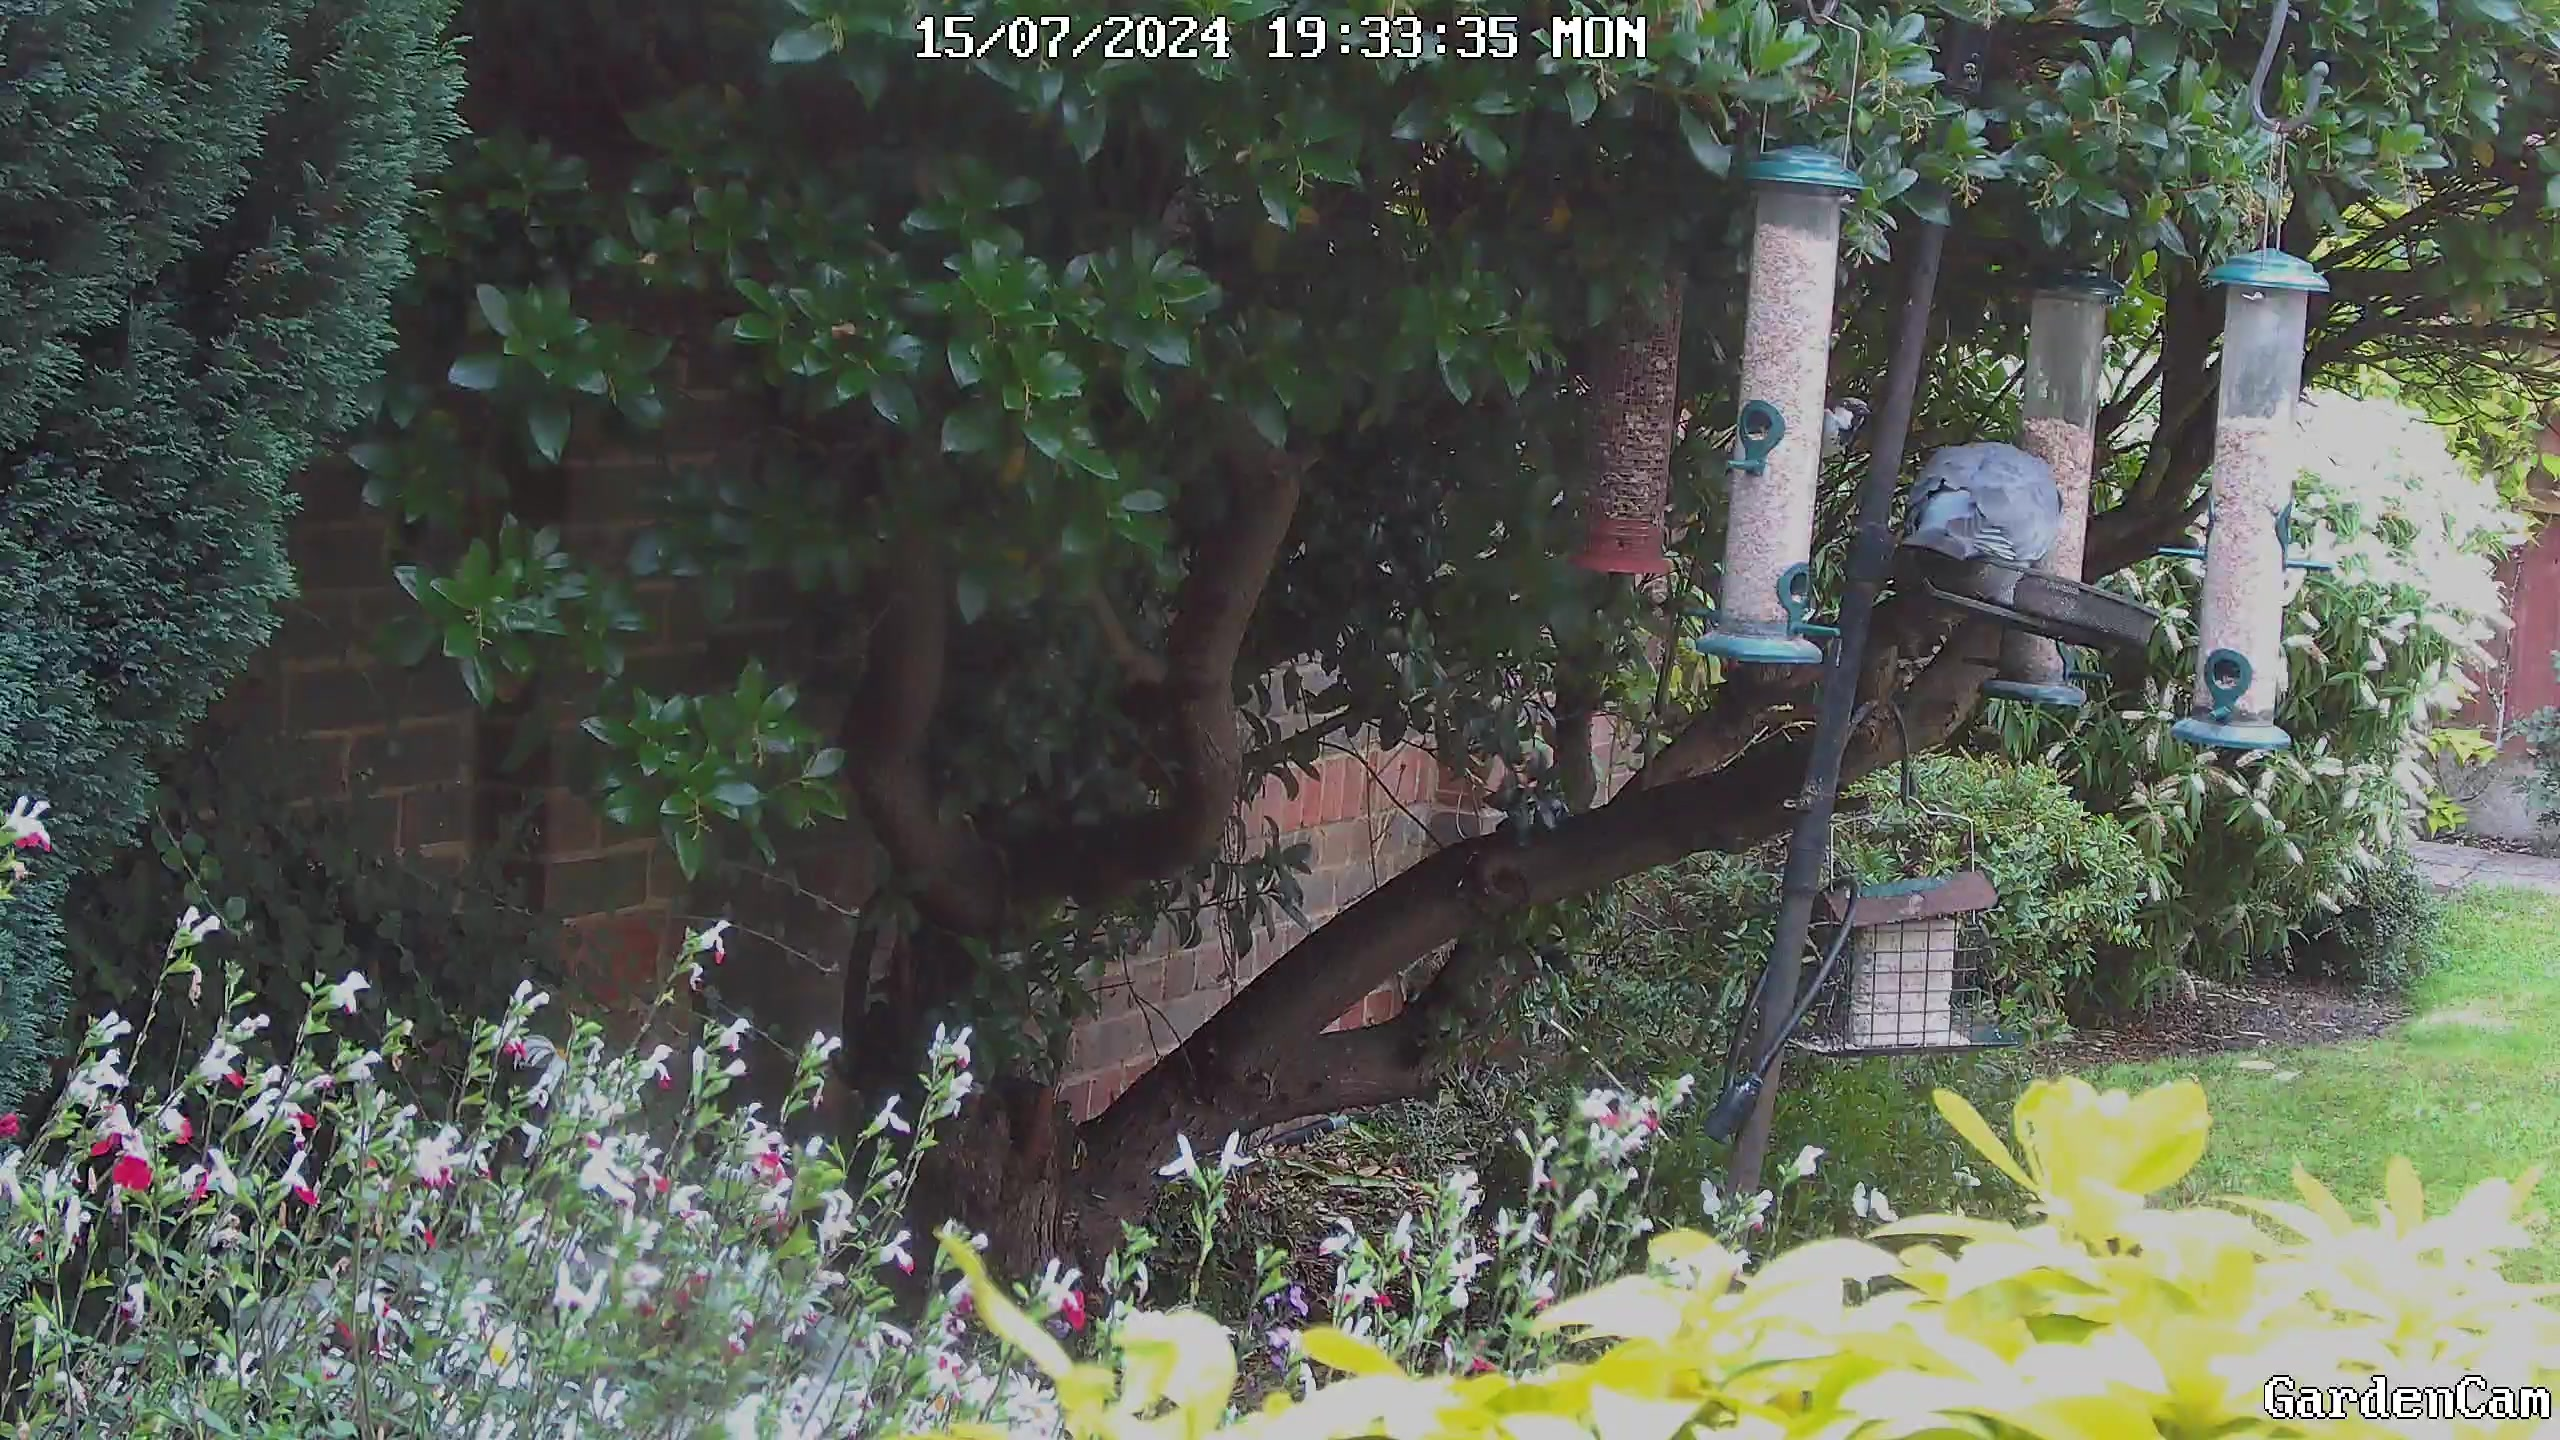Wood_Pigeon: (1865, 404, 2080, 622)
